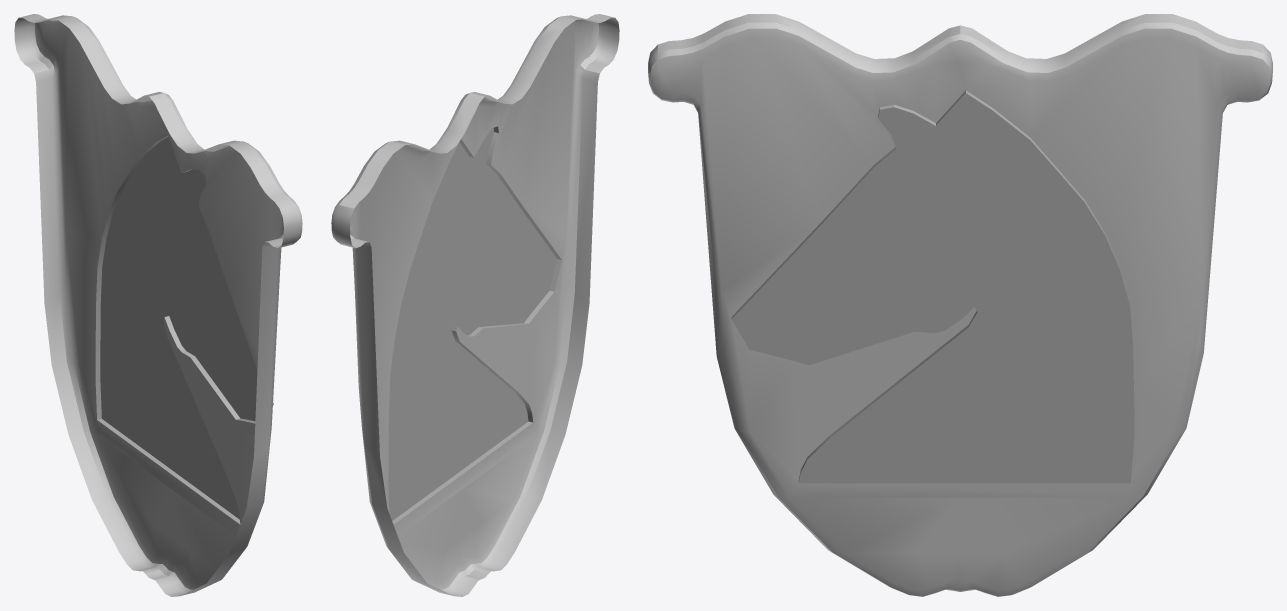
The model's file is SM_shield.fbx.
The picture shows the model from 3 angles, left to right: view 1: azimuth 30°, elevation 25°; view 2: azimuth 150°, elevation 25°; view 3: azimuth 270°, elevation 25°; orthographic projection. The views are drawn at different scales.
Parts seen in each view (by area): view 1: SM_shield; view 2: SM_shield; view 3: SM_shield.
Boxes of the visible parts, bbox=[...] form: SM_shield: bbox=[14, 14, 302, 596]; SM_shield: bbox=[331, 14, 619, 596]; SM_shield: bbox=[648, 14, 1272, 596].
Bounding box in the file's own units: 8.25 × 149 × 147.
